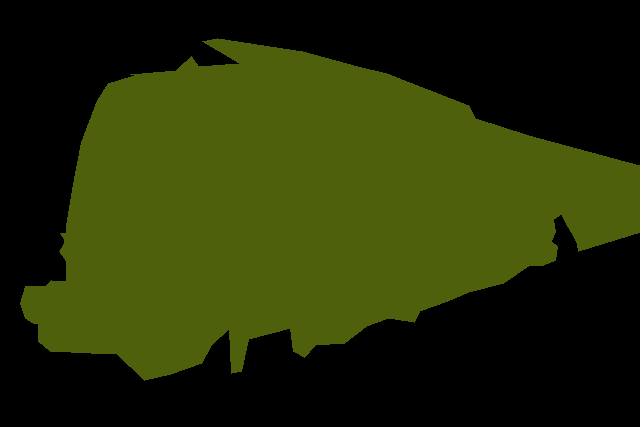Train: (20, 38, 640, 381)
